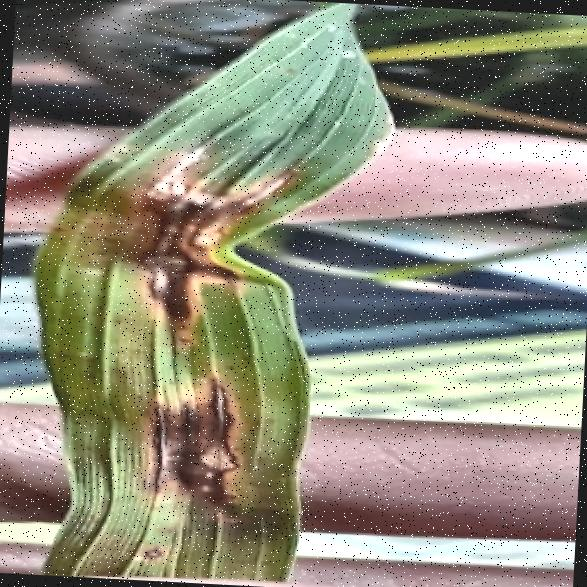Leaf_smut: (64, 139, 298, 547)
